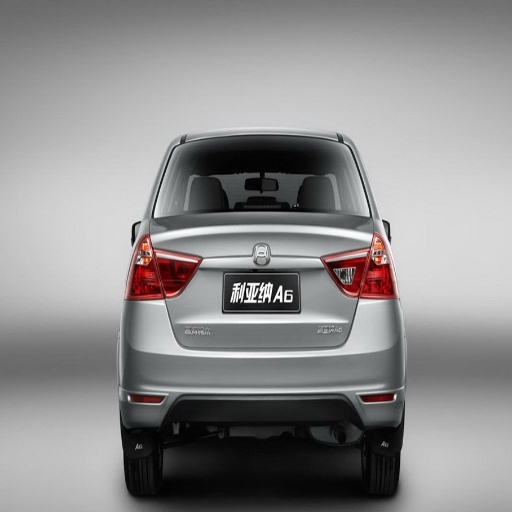back_bumper: (120, 298, 407, 426)
